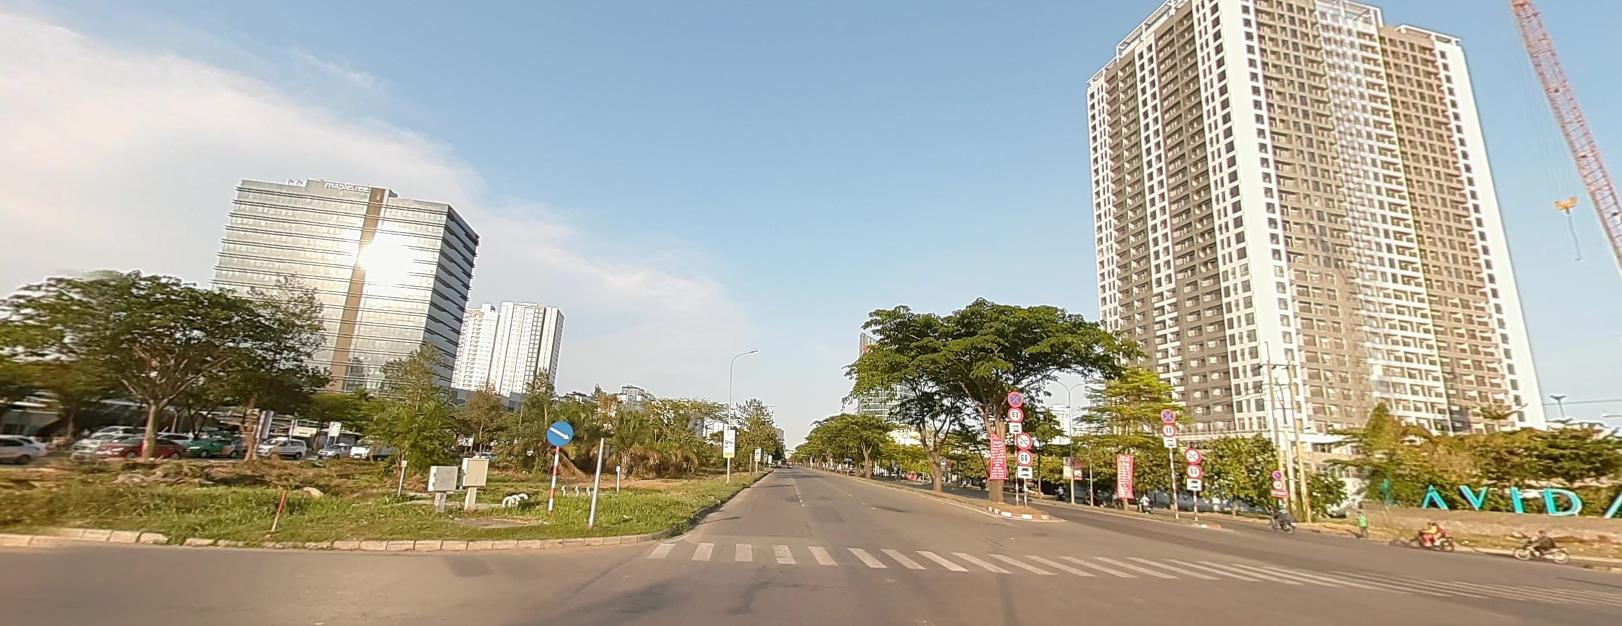Cam con lai: (1183, 447, 1201, 463), (1015, 433, 1032, 448)
Cam dung va do: (1007, 390, 1022, 405), (1161, 408, 1174, 421), (1270, 469, 1282, 478)
Gioi han toc do: (1007, 406, 1024, 422), (1016, 448, 1033, 464), (1185, 463, 1203, 477), (1160, 422, 1176, 435), (1271, 479, 1282, 488)
Hieu lenh: (545, 418, 573, 445)
